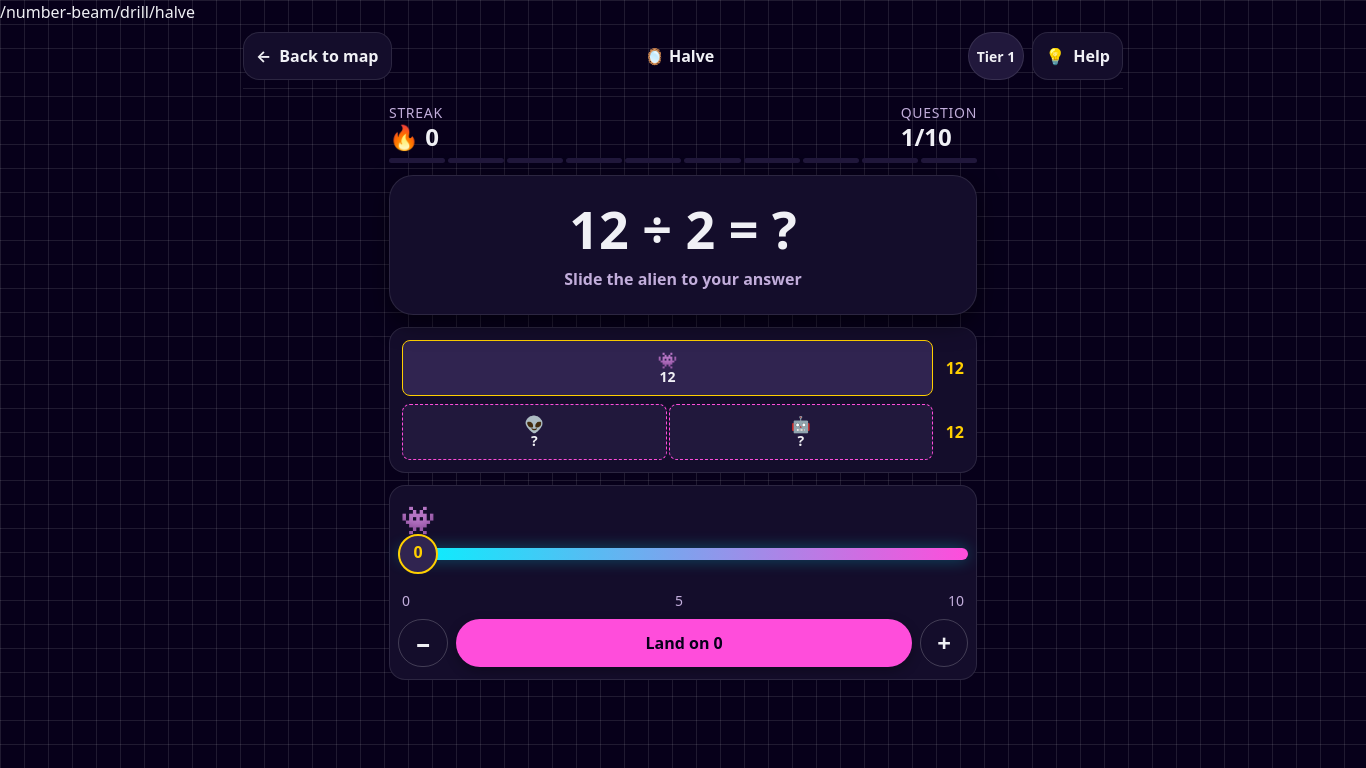
Test: BeamDrillPage › shows a worked example on demand and closes it again
Click the button "💡 Help": (1078, 56) [1032,32,1123,80]
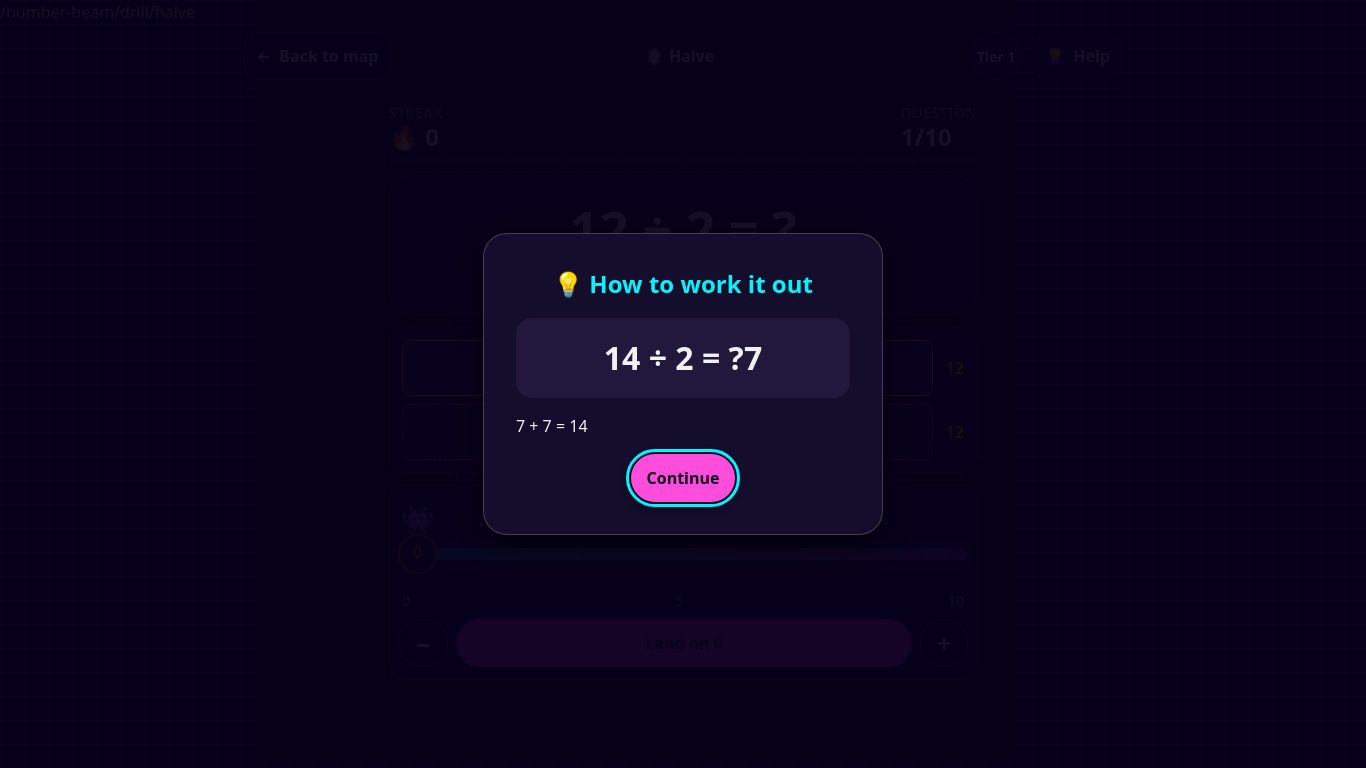
expect the dialog "💡 How to work it out 14 ÷ 2 = ?7 7 + 7 = 14 Continue" is shown: met
Click the button "Continue": (683, 478) [630,454,735,502]
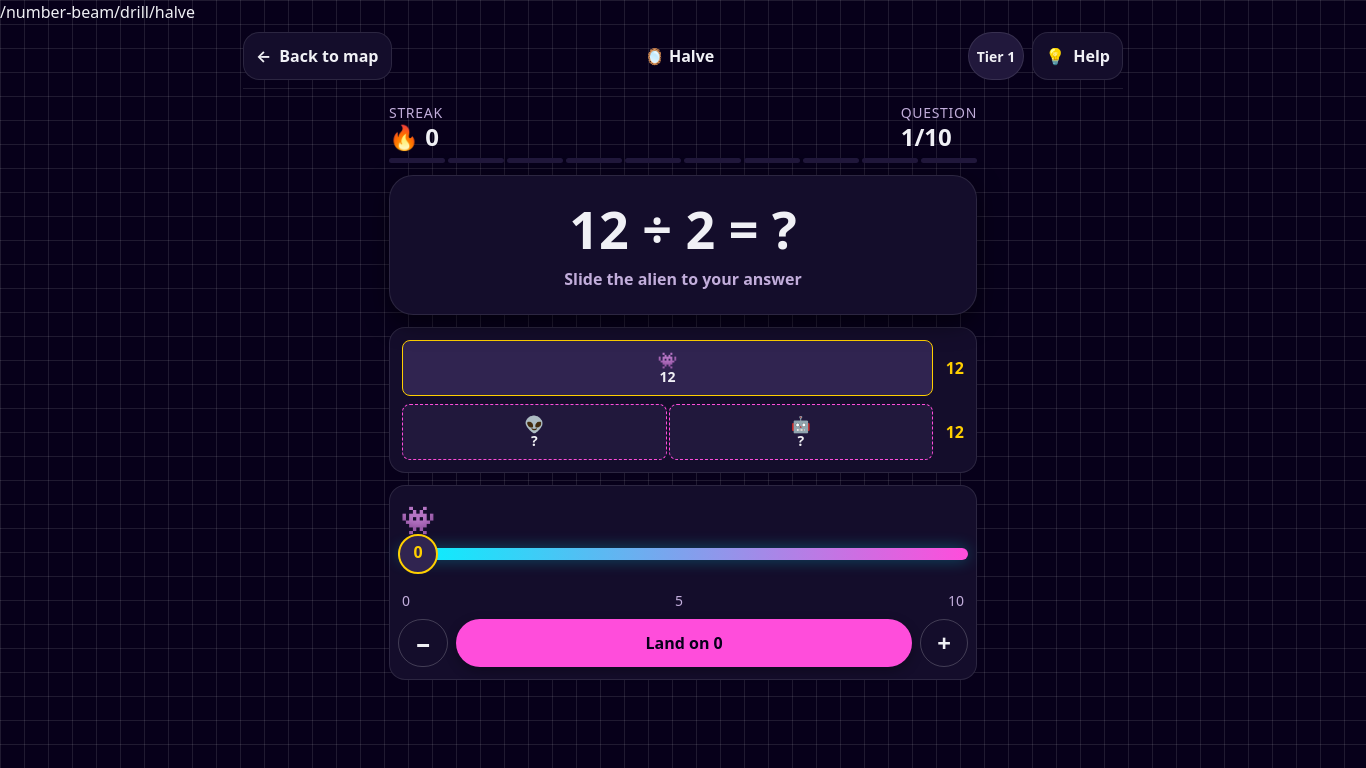
expect the dialog is gone: met
